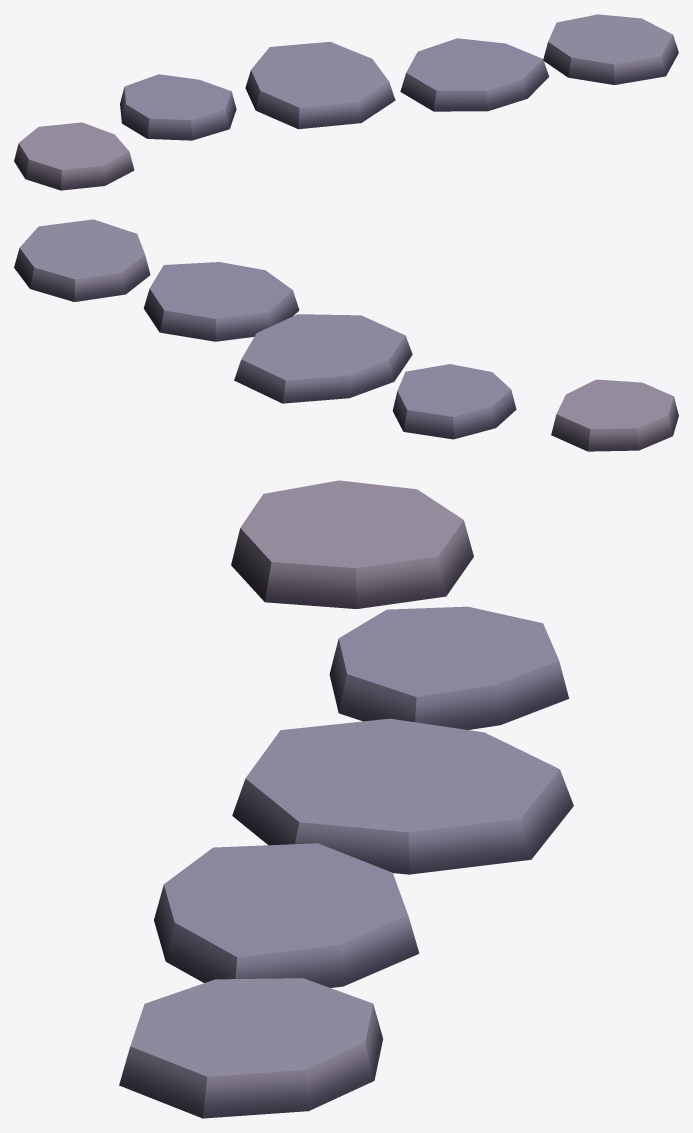
Rendered from PlayGround_Kit_Stepping_Stones.fbx.
3 renders of one model, top to bottom at view 1: azimuth 30°, elevation 25°; view 2: azimuth 150°, elevation 25°; view 3: azimuth 270°, elevation 25°, orthographic. The views are drawn at different scales.
Visible parts, largest first — view 1: PlayGround_Kit_Stepping_Stones; view 2: PlayGround_Kit_Stepping_Stones; view 3: PlayGround_Kit_Stepping_Stones.
Boxes of the visible parts, <box> form: PlayGround_Kit_Stepping_Stones: <box>14,14,678,190</box>; PlayGround_Kit_Stepping_Stones: <box>14,219,678,451</box>; PlayGround_Kit_Stepping_Stones: <box>119,480,573,1118</box>.
Size of the model in its own units: 3.15 by 0.09 by 1.
